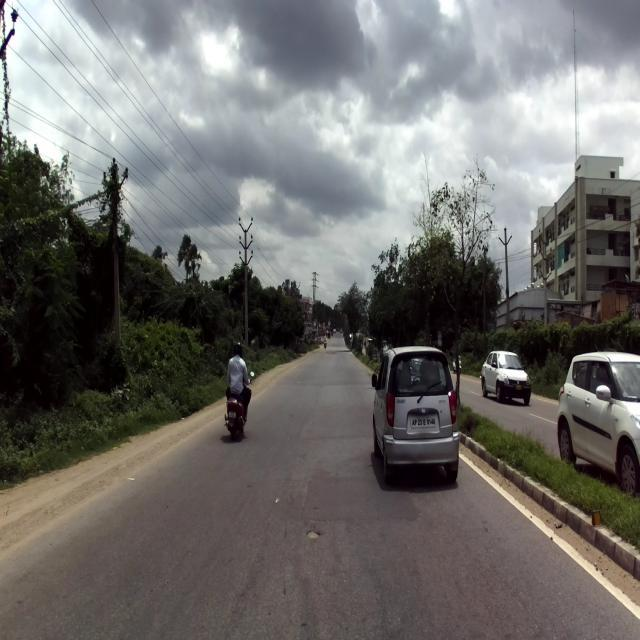Pothole: (296, 517, 332, 553)
